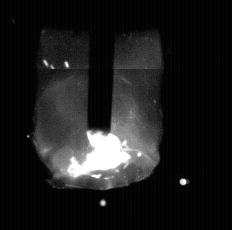arame: (89, 0, 113, 136)
poca: (33, 0, 161, 230)
